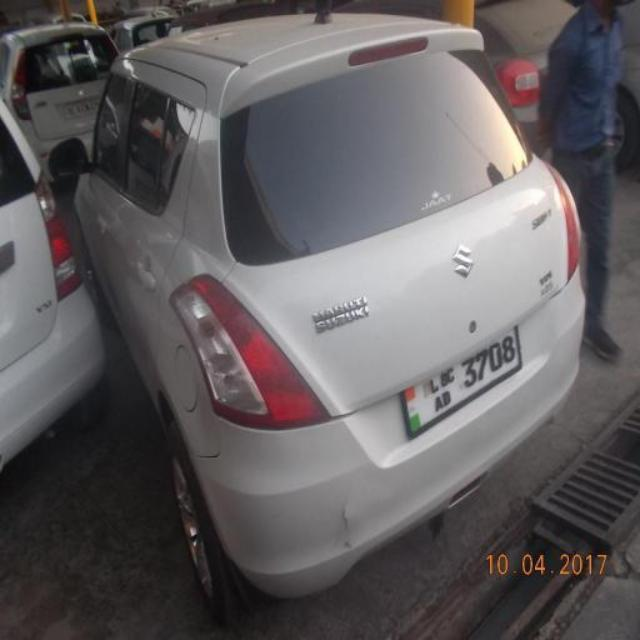scratch: (335, 496, 352, 548)
